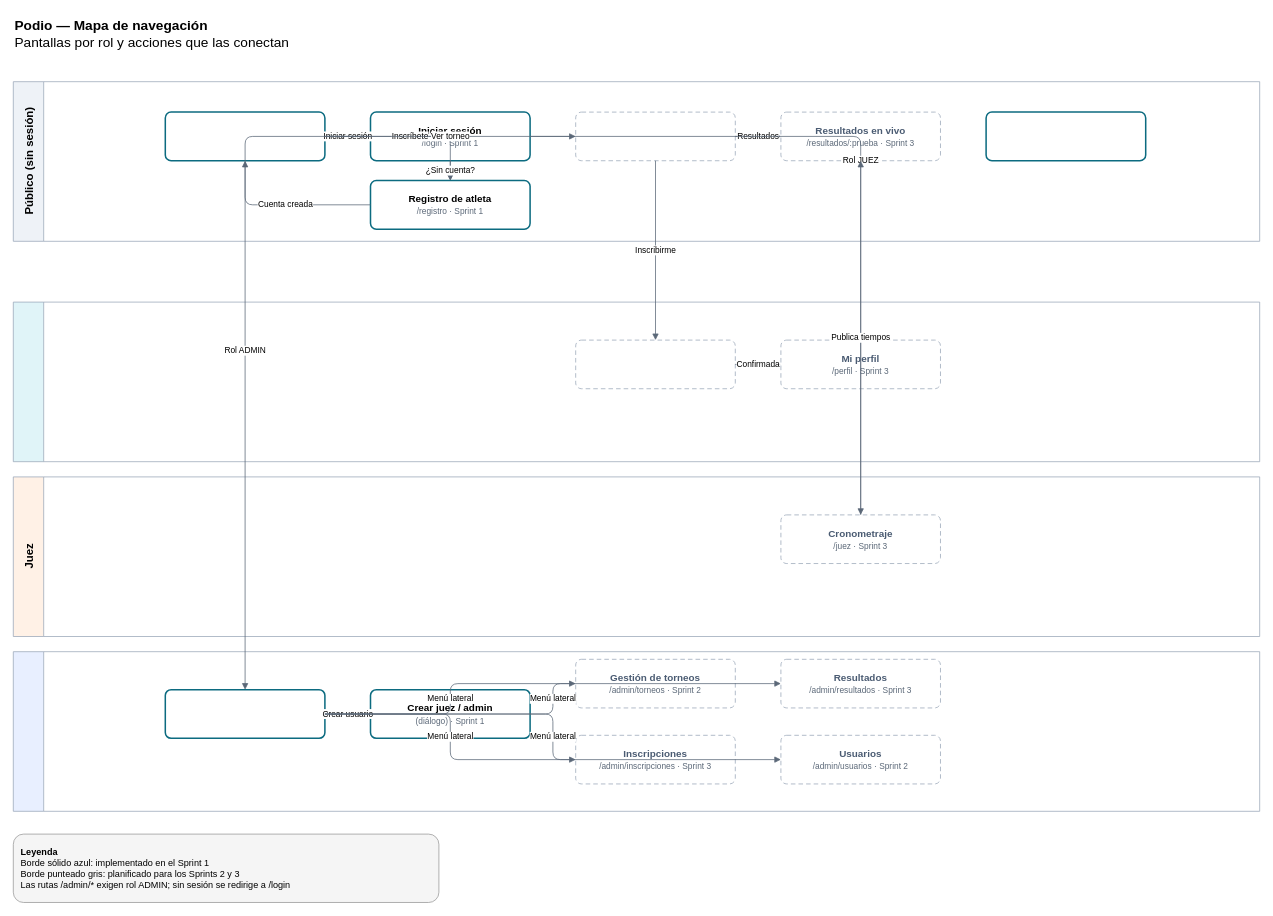
This 1273x916 diagram has some shape labels left out. Here are the shapes that lost their labels. From the top down, the box of each, then its label:
(164, 111, 325, 161): Inicio / · Sprint 1
(575, 111, 735, 161): Detalle de torneo /torneos/:id · Sprint 2
(985, 111, 1146, 161): Página 404 * · Sprint 1
(13, 301, 1260, 462): Atleta
(575, 339, 735, 389): Inscripción a prueba /torneos/:id/inscribirme · Sprint 2
(164, 689, 325, 739): Dashboard /admin · Sprint 1
(13, 651, 1260, 811): Administrador
